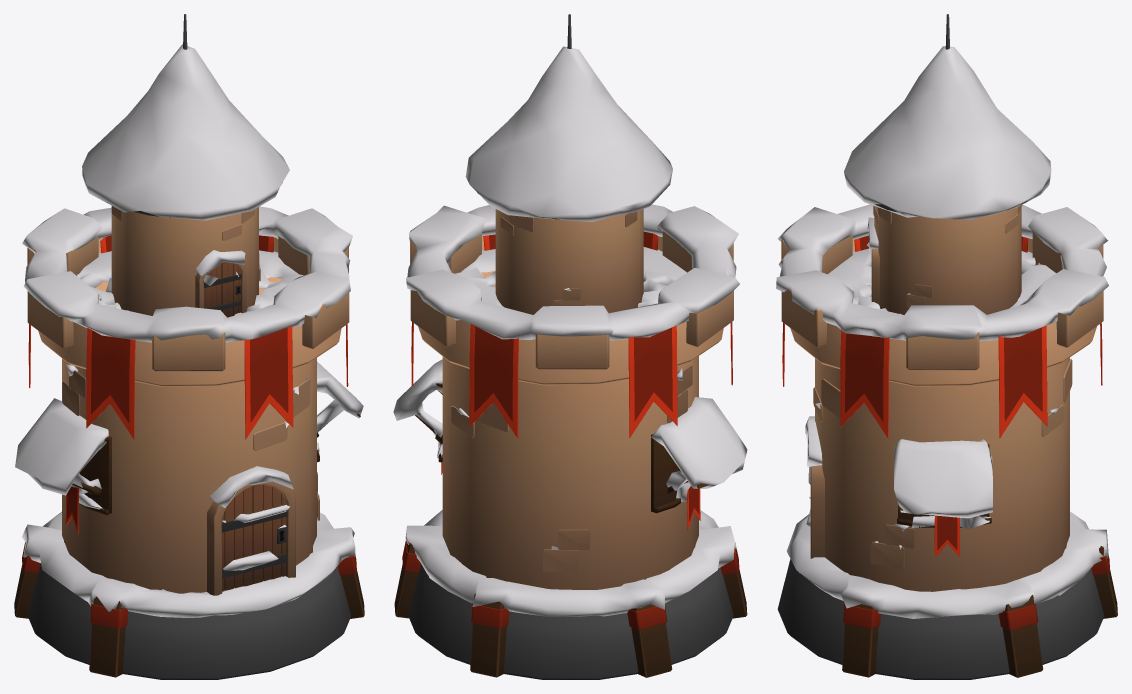
The model's file is TowerWatchSnowy_2.fbx.
3 views of the same model, side by side, from view 1: azimuth 30°, elevation 25°; view 2: azimuth 150°, elevation 25°; view 3: azimuth 270°, elevation 25° (orthographic).
Visible parts, largest first — view 1: TowerWatchSnowy_2; view 2: TowerWatchSnowy_2; view 3: TowerWatchSnowy_2.
Boxes of the visible parts, box(x1,y1,x2,y2) form: TowerWatchSnowy_2: box(14, 14, 364, 679); TowerWatchSnowy_2: box(393, 14, 747, 679); TowerWatchSnowy_2: box(776, 14, 1117, 679).
Size of the model in its own units: 313 by 552 by 285.
